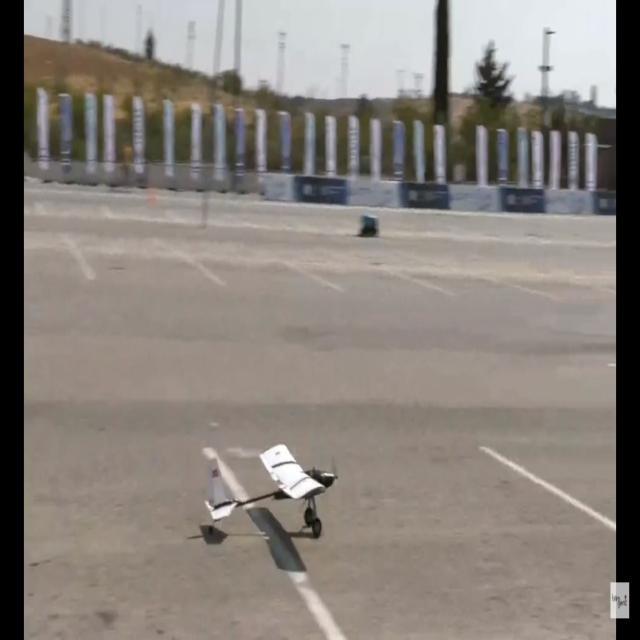iha: (198, 460, 326, 510)
